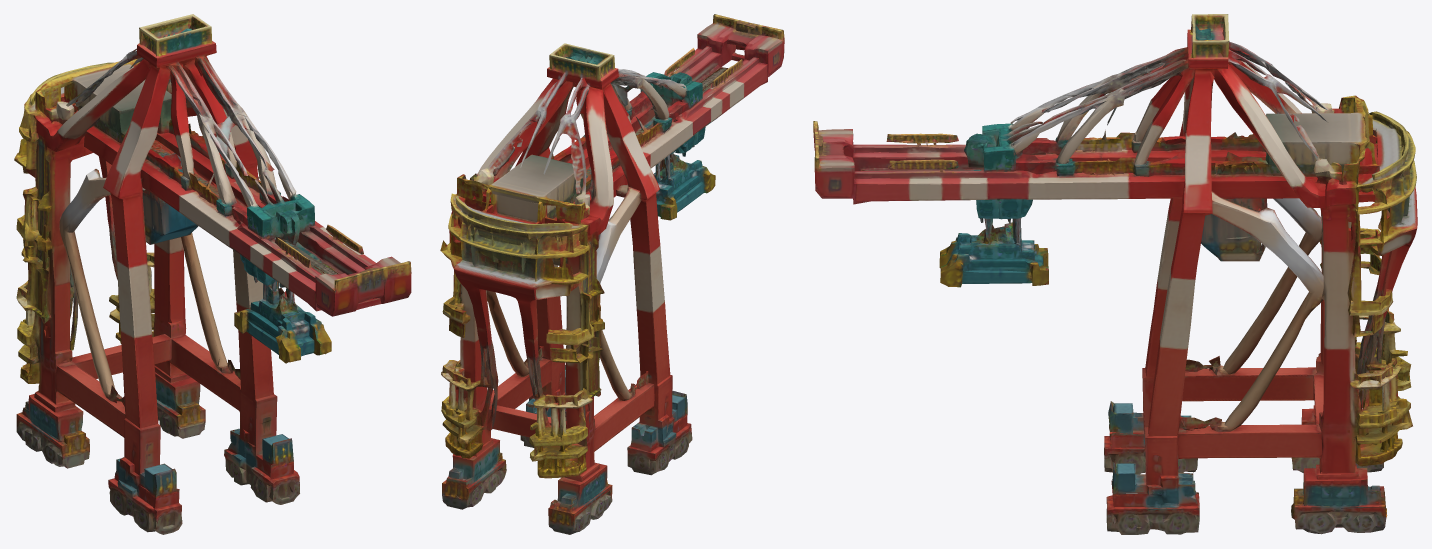
File: hp_gantry_crane.glb
3 views of the same model, side by side, from view 1: azimuth 30°, elevation 25°; view 2: azimuth 150°, elevation 25°; view 3: azimuth 270°, elevation 25° (orthographic). The views are drawn at different scales.
Parts seen in each view (by area): view 1: geometry_0; view 2: geometry_0; view 3: geometry_0.
Boxes of the visible parts, x1=… form: geometry_0: x1=14, y1=14, x2=411, y2=534; geometry_0: x1=440, y1=14, x2=784, y2=534; geometry_0: x1=813, y1=14, x2=1417, y2=534.
Size of the model in its own units: 25.31 by 70 by 81.15.
Materials: 1 (1 with a texture image).
